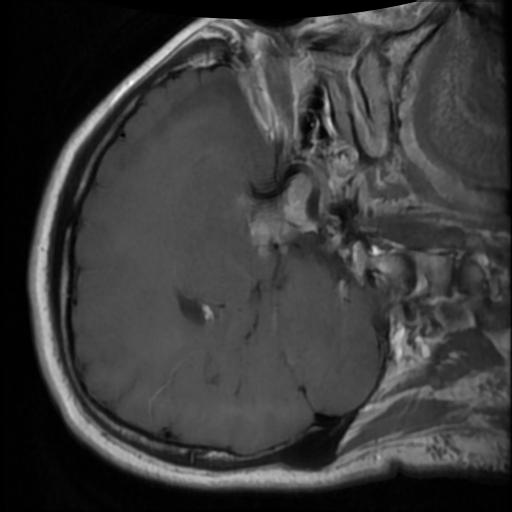pituitary tumour: (241, 168, 316, 259)
